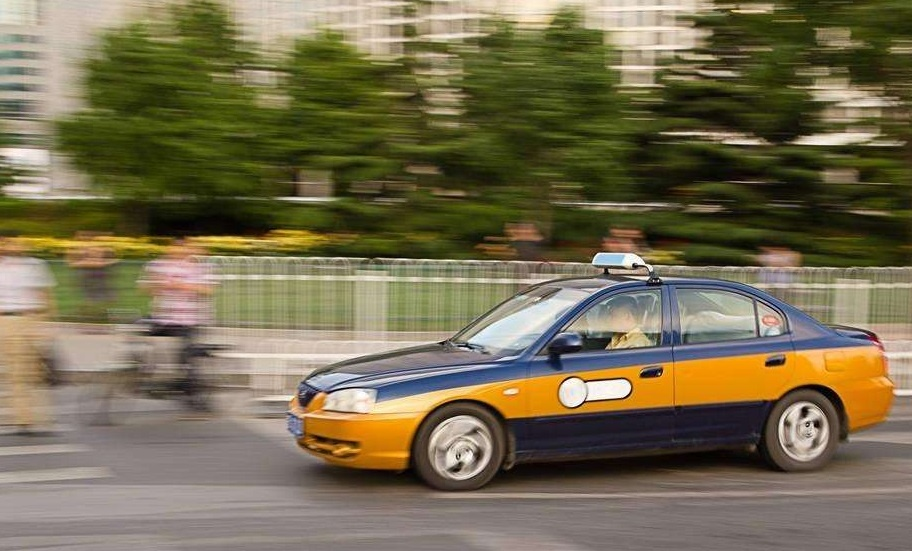taxi: (281, 249, 891, 483)
